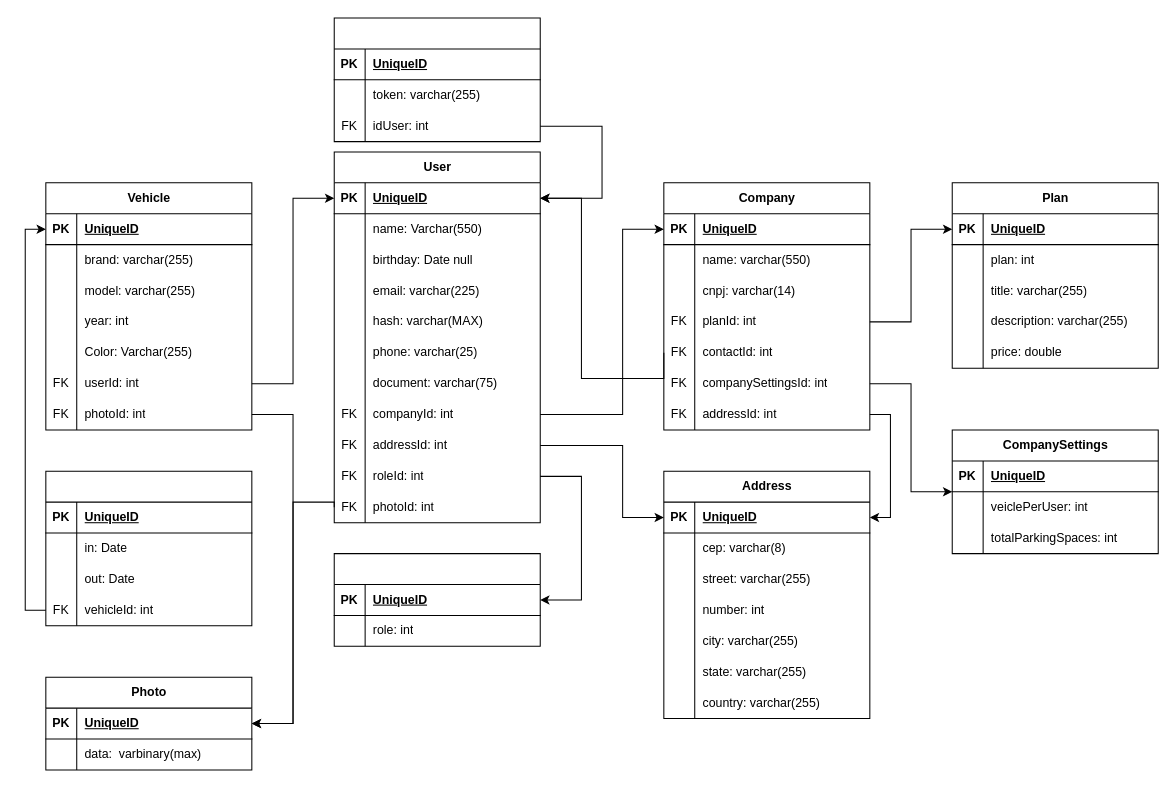
The diagram is 1176 pixels wide and 788 high, and some of its shapes have lost their labels. Here are the shapes that lost their labels. From the top down, the box of each, then its label:
(333, 17, 540, 142): GoogleAuthentication
(45, 470, 252, 626): CarAccessLog
(333, 553, 540, 646): Roles
